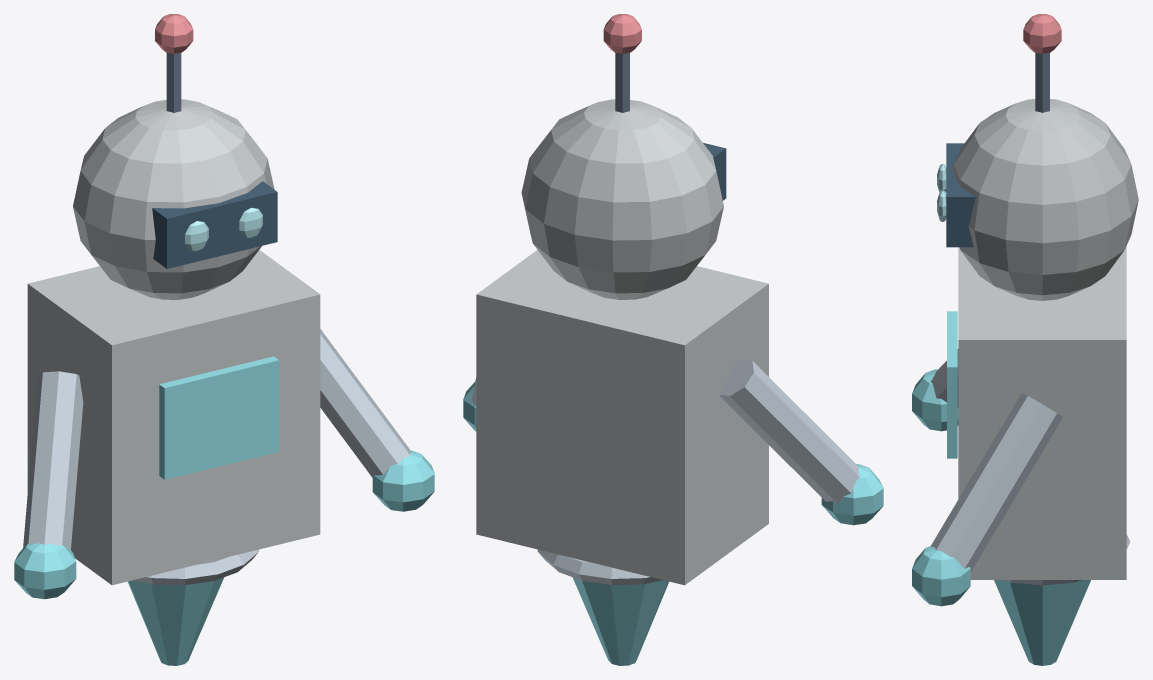
Rendered from robot_camarero.glb.
3 renders of one model, left to right at view 1: azimuth 30°, elevation 25°; view 2: azimuth 150°, elevation 25°; view 3: azimuth 270°, elevation 25°, orthographic.
Parts seen in each view (by area): view 1: robot_camarero; view 2: robot_camarero; view 3: robot_camarero.
Boxes of the visible parts, <box> form: robot_camarero: <box>14,14,434,665</box>; robot_camarero: <box>463,14,883,665</box>; robot_camarero: <box>912,14,1138,665</box>.
Bounding box in the file's own units: 1.98 × 2.95 × 0.9418.
